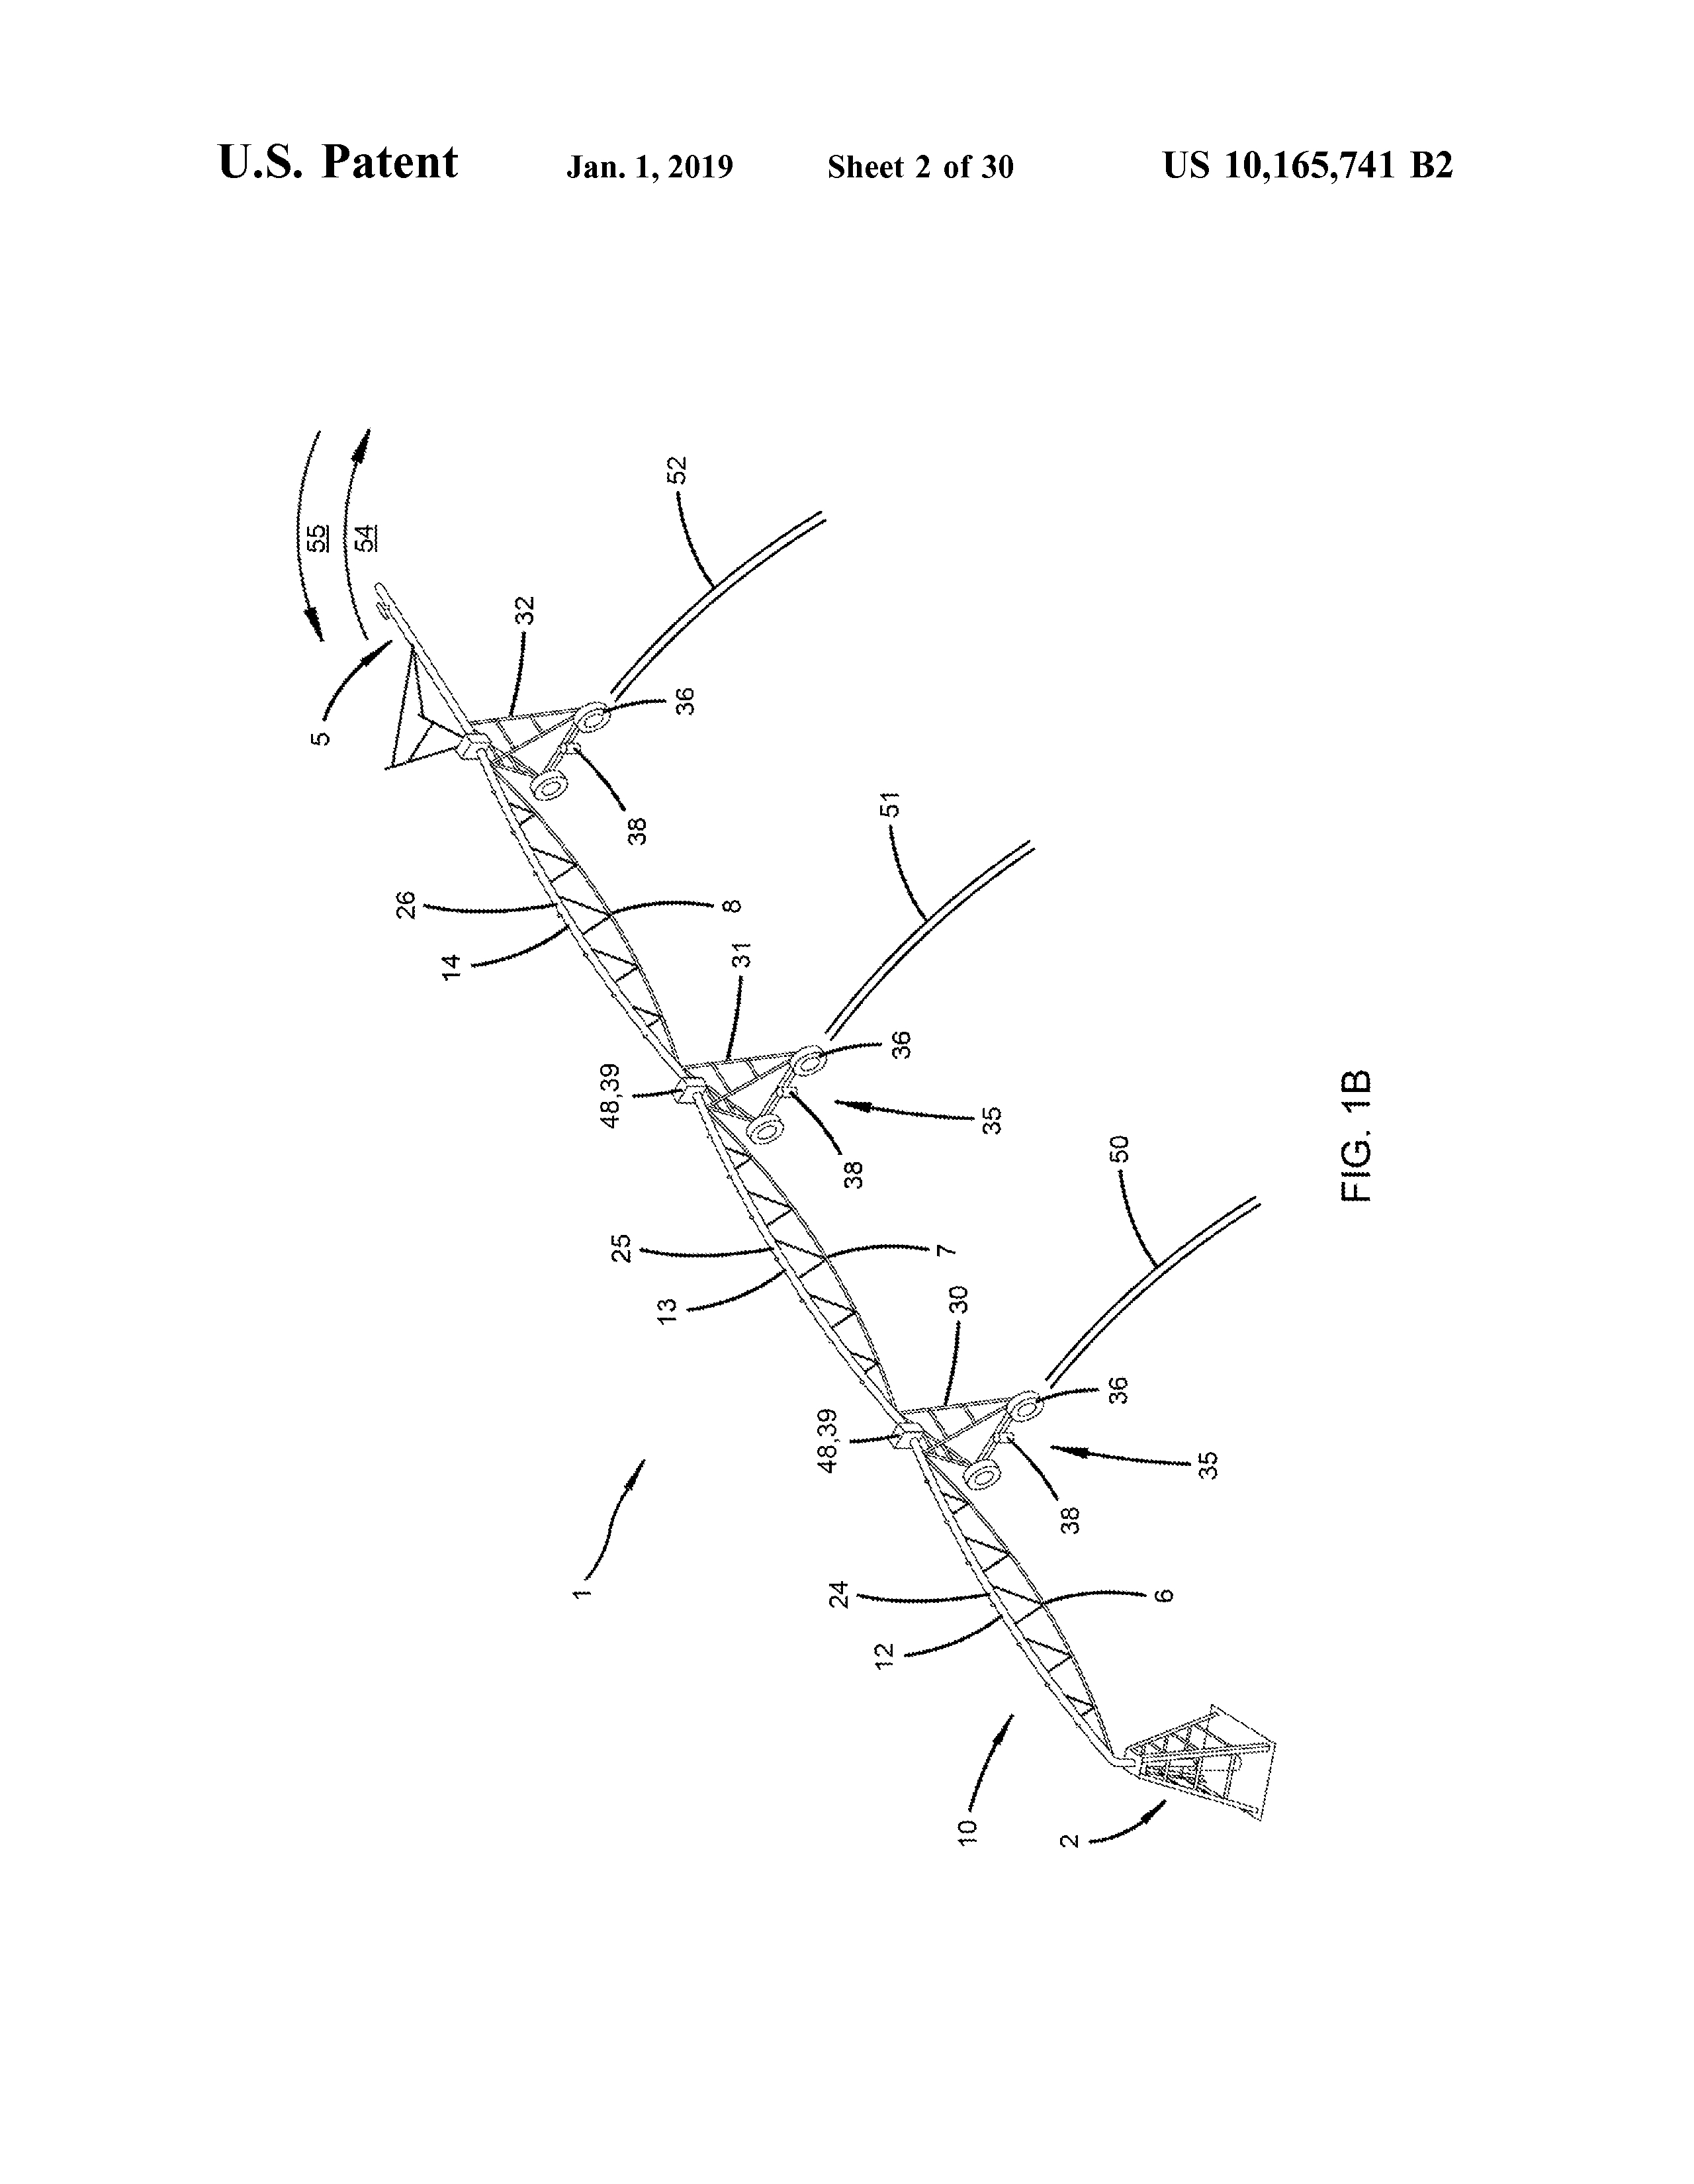patent image: (247, 375, 1463, 1969)
